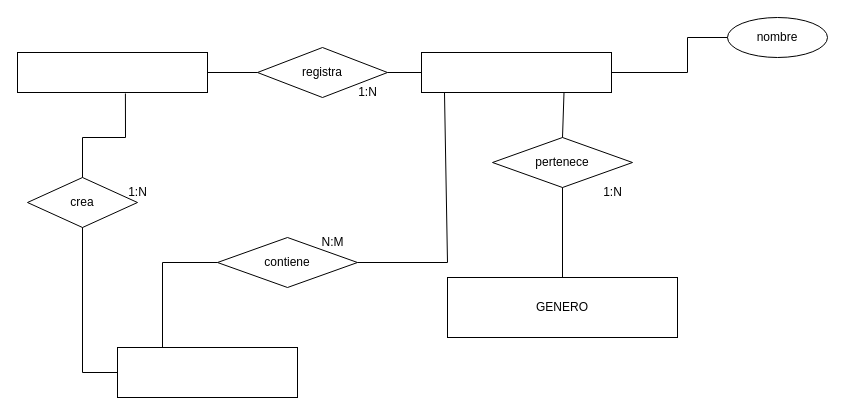
The diagram is 845 pixels wide and 415 high, and some of its shapes have lost their labels. The shapes that lost their labels are listed below. From the top down, each one's centre as x and y in pixels, then its label:
At pixel 112 72: "USUARIO".
At pixel 516 72: "CANCION".
At pixel 207 372: "LISTA_REPRODUCCION".
